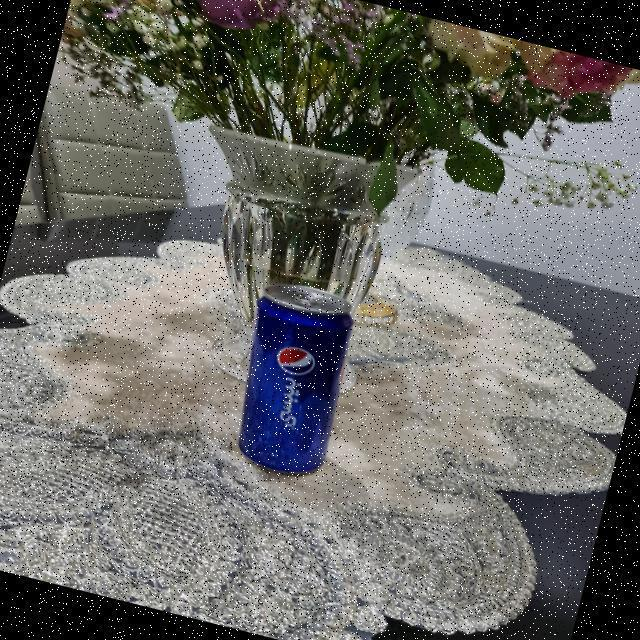can: (211, 272, 377, 490)
